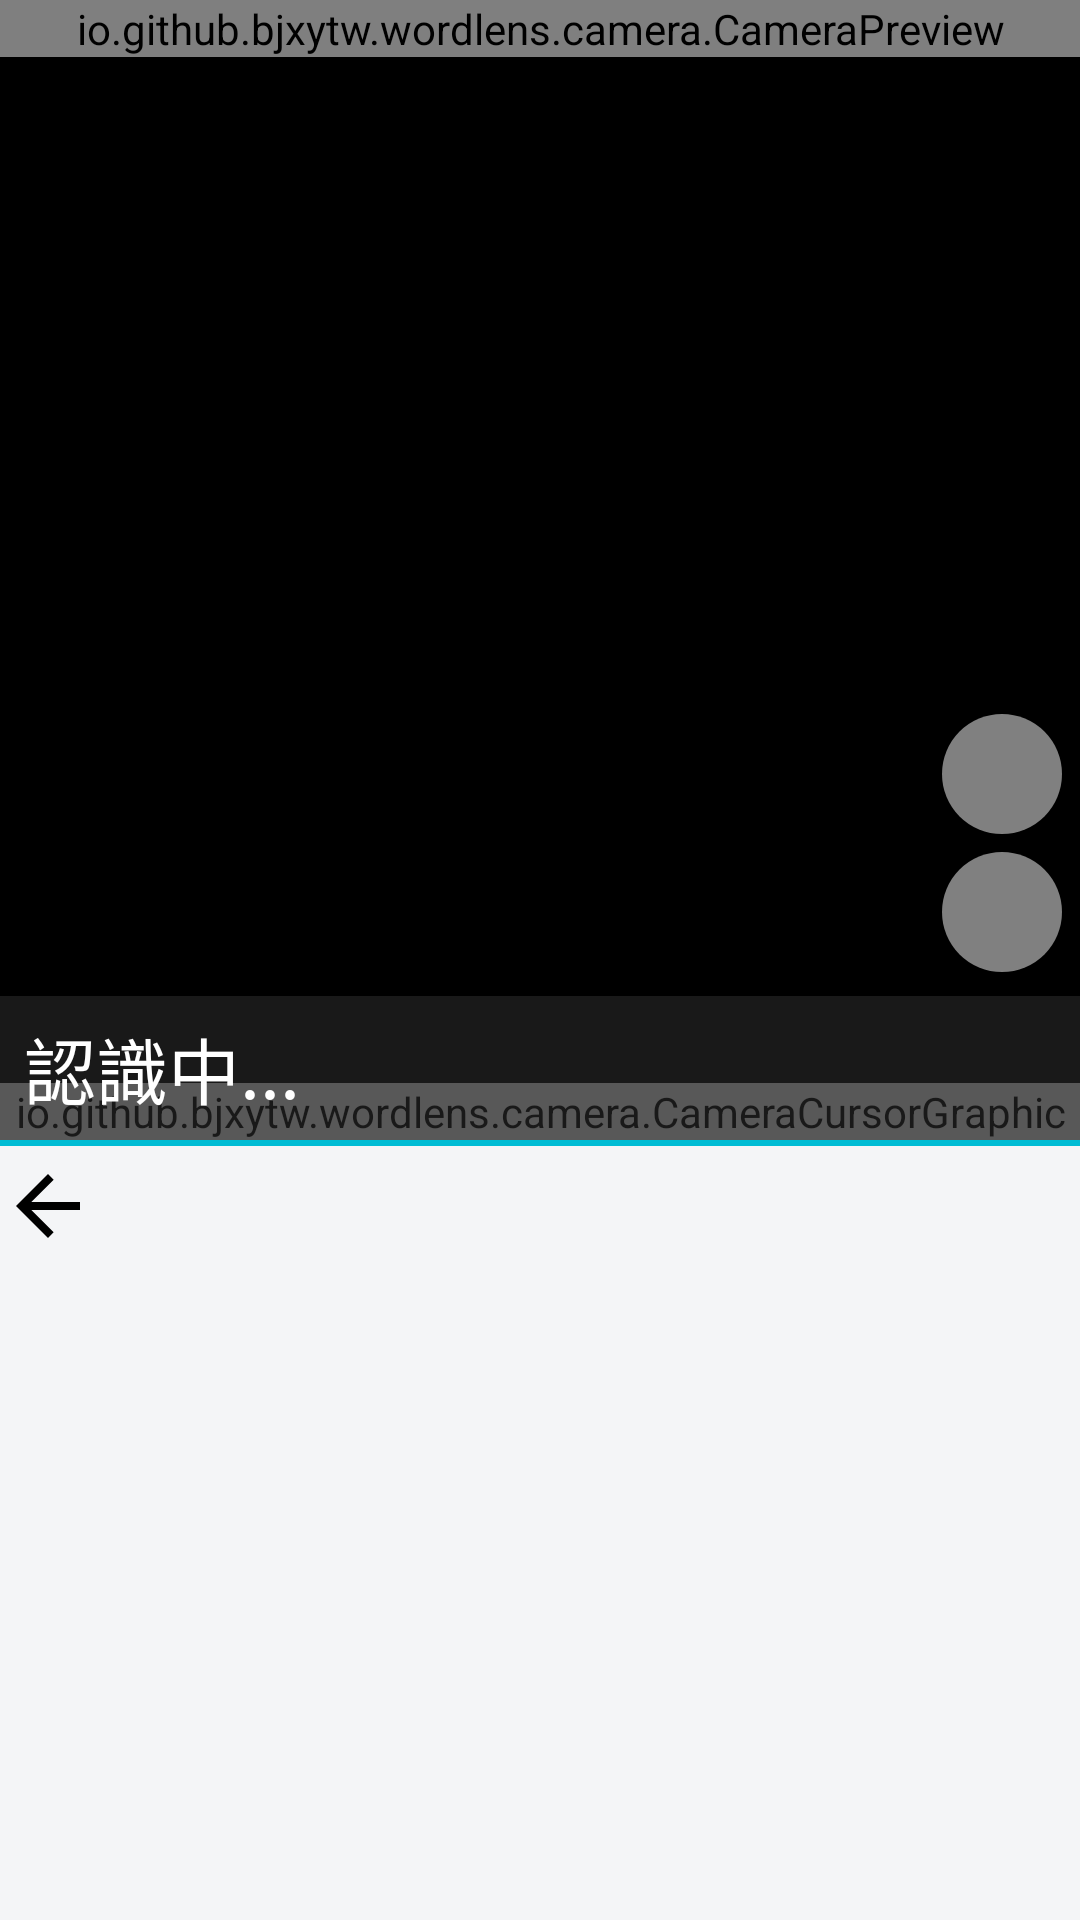

Icon bounding boxes for this 1080 × 1920 phone screenshot, format (x1, y1, x2, y2):
arrow back: (16, 1174, 80, 1238)
